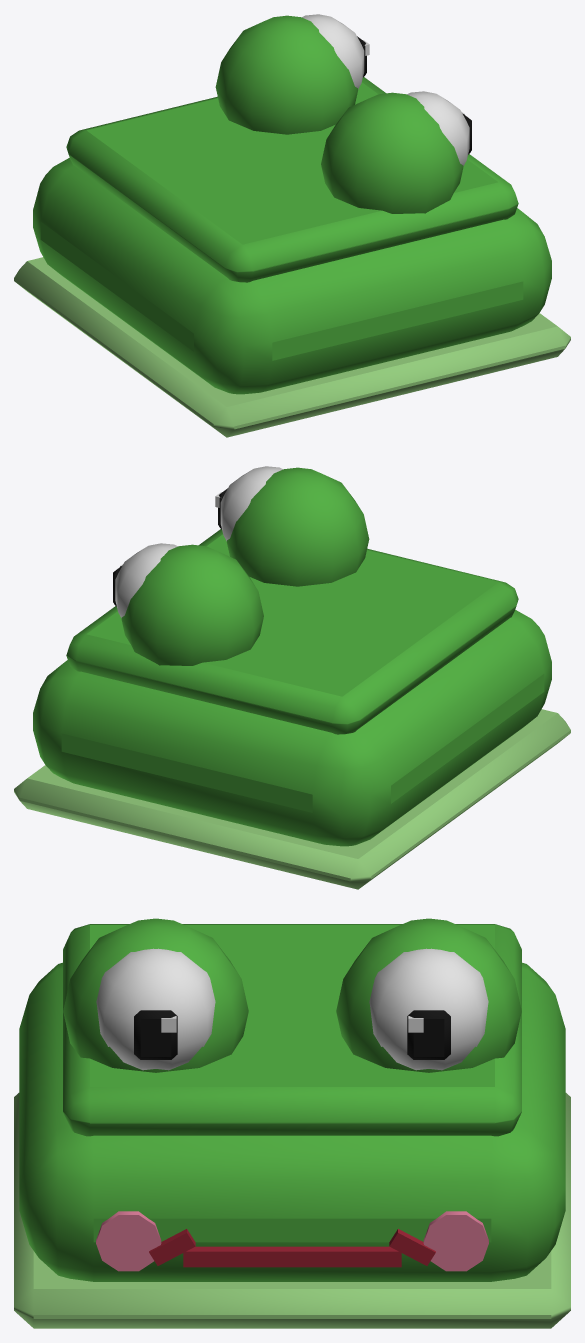
File: hat-frog_hat.glb
3 renders of one model, top to bottom at view 1: azimuth 30°, elevation 25°; view 2: azimuth 150°, elevation 25°; view 3: azimuth 270°, elevation 25°, orthographic. The views are drawn at different scales.
Visible parts, largest first — view 1: Hat; view 2: Hat; view 3: Hat.
Part boxes in pixels (bbox=[...]): Hat: bbox=[14, 14, 570, 437]; Hat: bbox=[14, 466, 570, 889]; Hat: bbox=[14, 918, 570, 1328].
Bounding box in the file's own units: 0.494 × 0.33 × 0.51.
